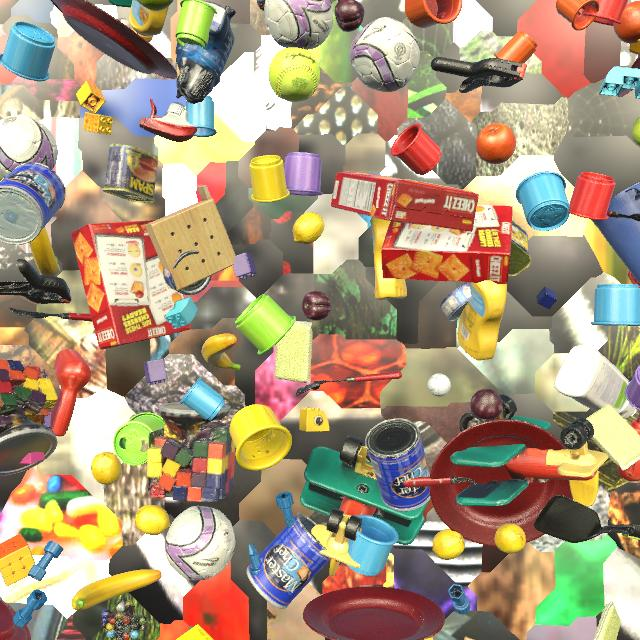ycb_002_master_chef_can: (246, 513, 330, 609), (365, 418, 431, 512), (0, 162, 66, 245)
ycb_003_cracker_box: (71, 220, 191, 350), (381, 205, 512, 284), (331, 171, 479, 232)
ycb_004_sugar_box: (176, 624, 213, 640)
ycb_006_mustard_bottle: (457, 280, 507, 360), (370, 217, 407, 300), (129, 0, 169, 42)
ycb_007_tuna_fish_can: (163, 251, 212, 295), (440, 282, 472, 322)
ycb_010_potted_meat_can: (102, 143, 158, 203), (490, 220, 532, 277)
ycb_011_banana: (72, 569, 162, 610), (29, 227, 60, 277), (202, 333, 241, 370)
ycb_014_lemon: (135, 505, 170, 535), (432, 529, 465, 560), (293, 212, 324, 244), (494, 523, 526, 554), (91, 452, 121, 485)
ycb_016_pear: (136, 0, 174, 11)
ycb_017_orange: (476, 123, 516, 164), (614, 0, 640, 44)
ycb_018_plum: (470, 389, 503, 420), (334, 0, 364, 32), (302, 291, 331, 321)
